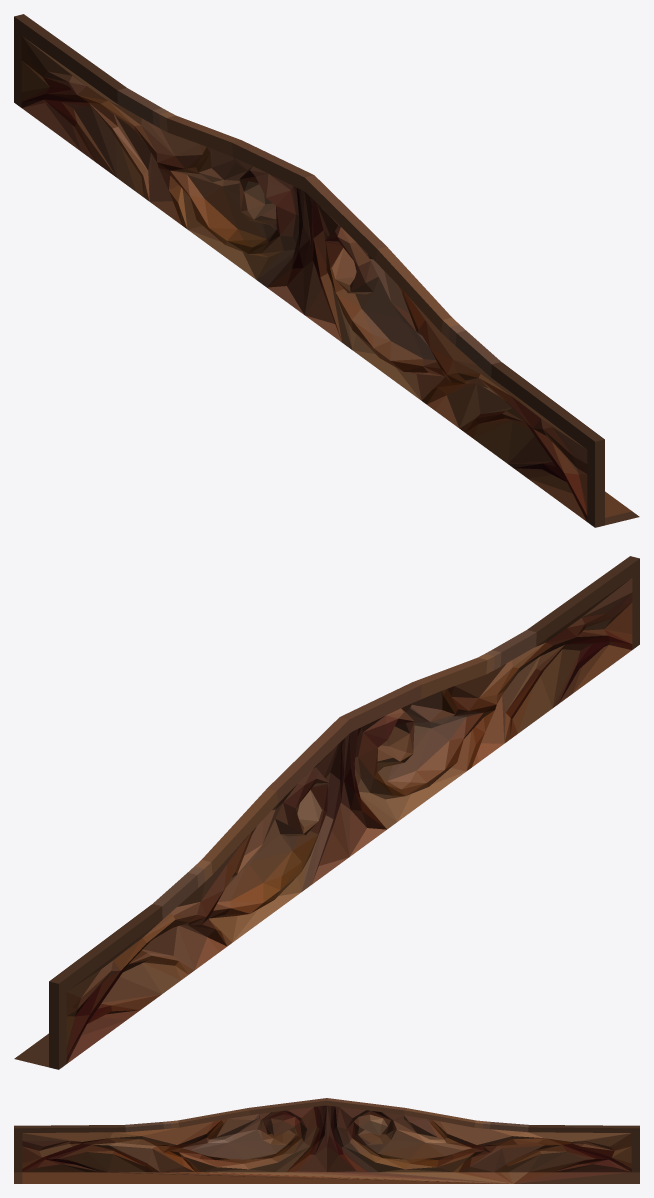
File: Ceiling_HomeA-CeilingArchEnd.fbx
3 views of the same model, one above another, from view 1: azimuth 30°, elevation 25°; view 2: azimuth 150°, elevation 25°; view 3: azimuth 270°, elevation 25° (orthographic). The views are drawn at different scales.
Parts seen in each view (by area): view 1: Ceiling_HomeA-CeilingArchEnd; view 2: Ceiling_HomeA-CeilingArchEnd; view 3: Ceiling_HomeA-CeilingArchEnd.
Boxes of the visible parts, x1,y1,x2,y2 form: Ceiling_HomeA-CeilingArchEnd: (14,14,639,527); Ceiling_HomeA-CeilingArchEnd: (14,556,639,1069); Ceiling_HomeA-CeilingArchEnd: (14,1098,639,1183).
Bounding box in the file's own units: 32.71 × 78.45 × 600.
